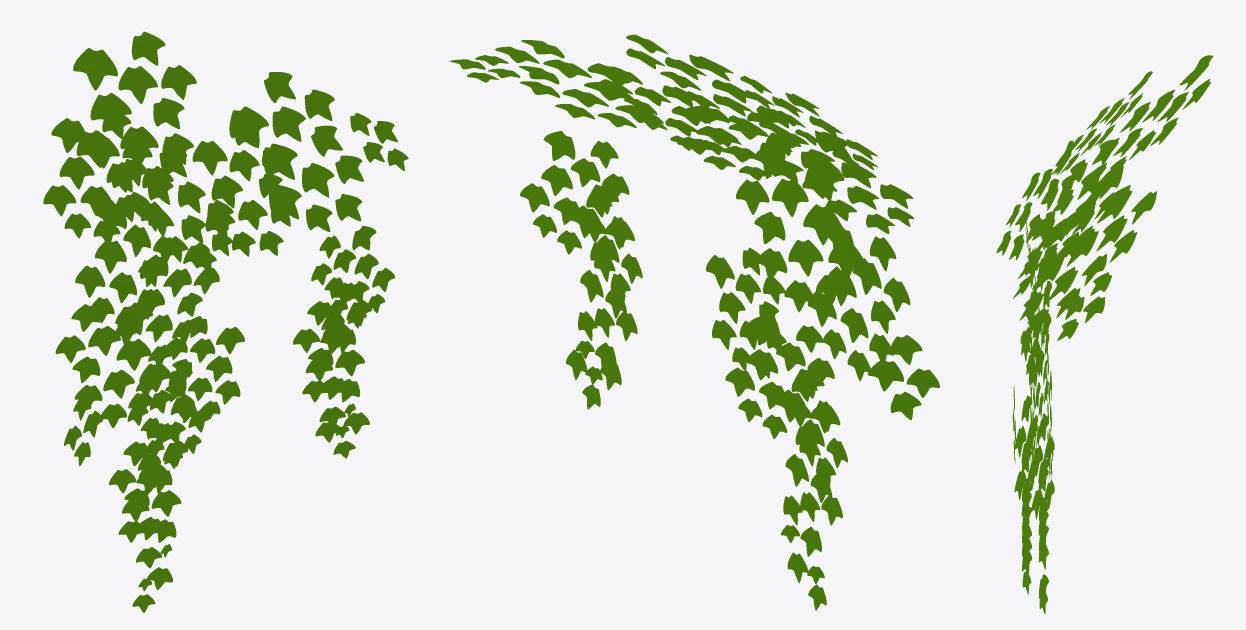
File: Prop_Vine5.gltf
3 views of the same model, side by side, from view 1: azimuth 30°, elevation 25°; view 2: azimuth 150°, elevation 25°; view 3: azimuth 270°, elevation 25° (orthographic). The views are drawn at different scales.
Visible parts, largest first — view 1: Prop_Vine5; view 2: Prop_Vine5; view 3: Prop_Vine5.
Part boxes in pixels (left/top/right/bottom): Prop_Vine5: left=43, top=31, right=408, bottom=612; Prop_Vine5: left=450, top=34, right=939, bottom=610; Prop_Vine5: left=996, top=55, right=1213, bottom=614.
Bounding box in the file's own units: 2.3 × 2.99 × 1.13.
Materials: 1 (1 with a texture image).
